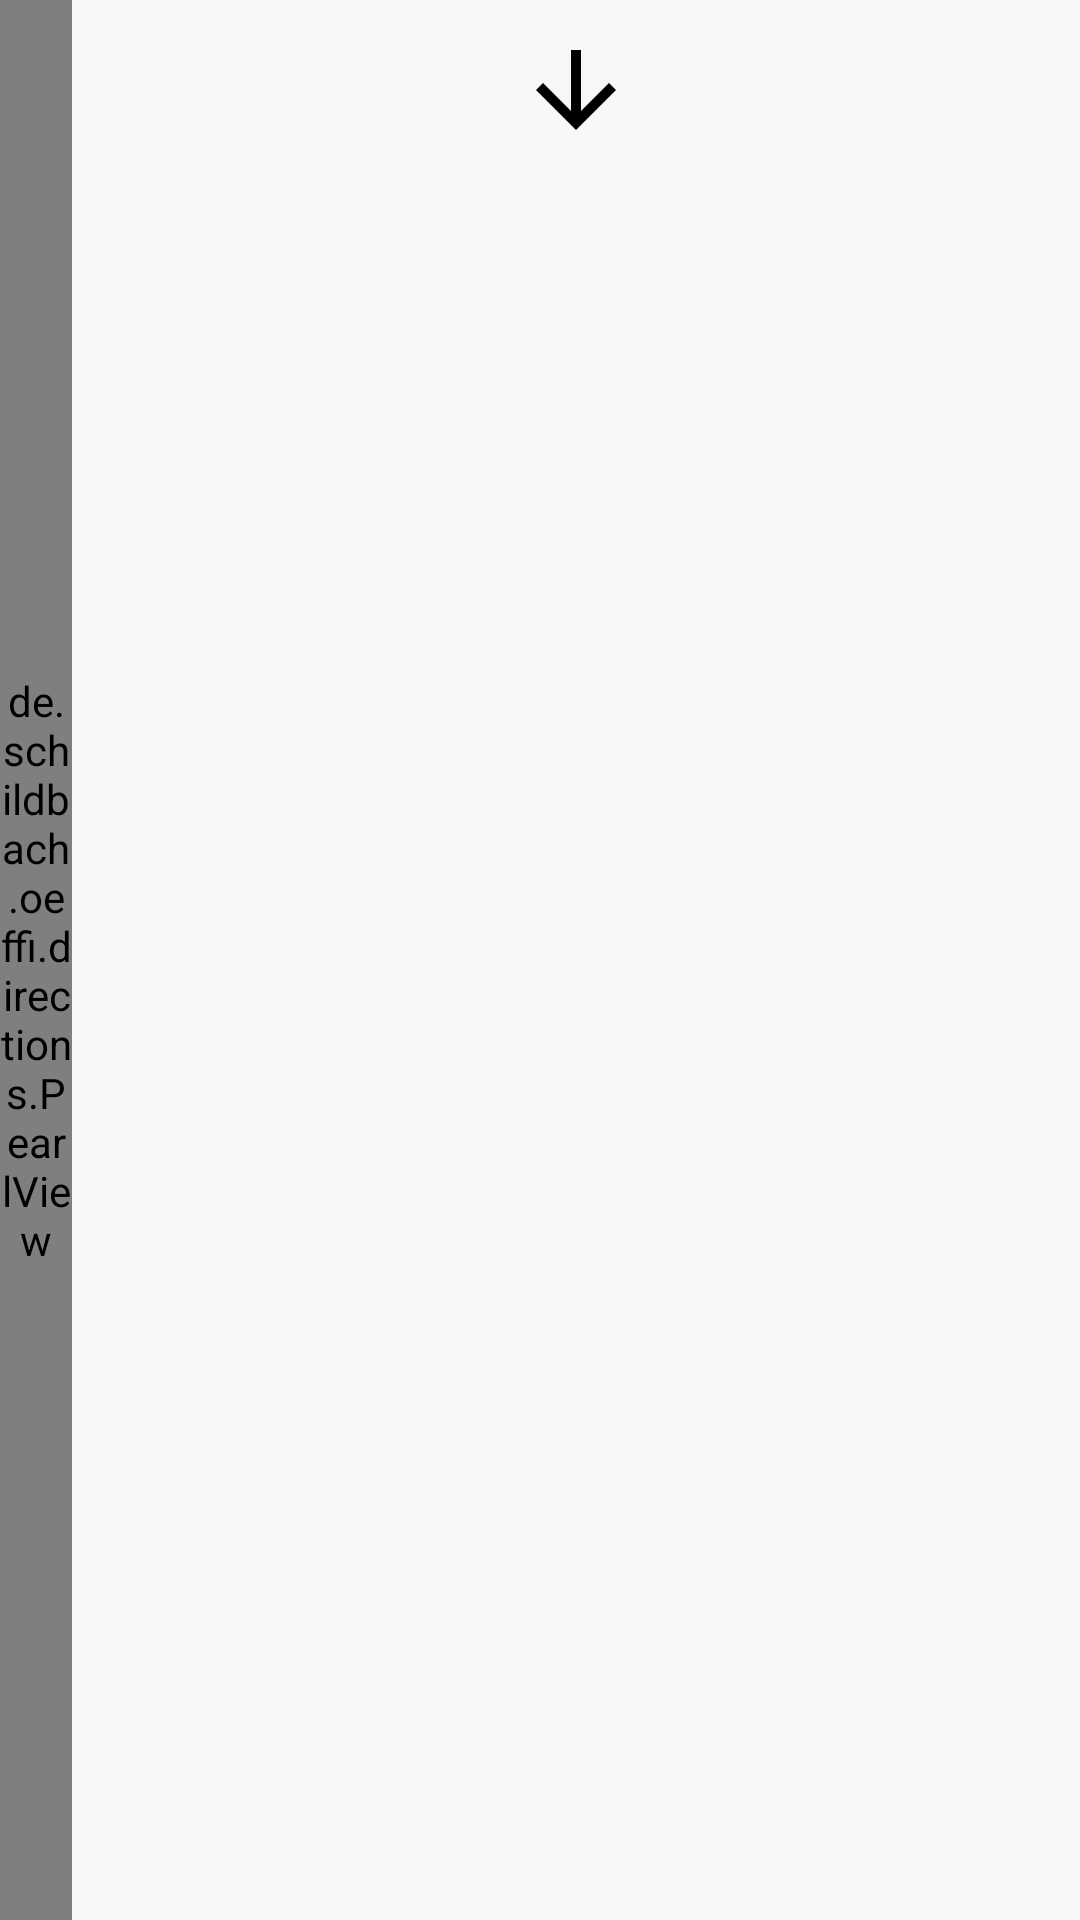

Screen size 1080w x 1920h. Icon name, then its box in pixels as (x1, y1, x2, y2):
arrow down: (536, 50, 616, 130)
